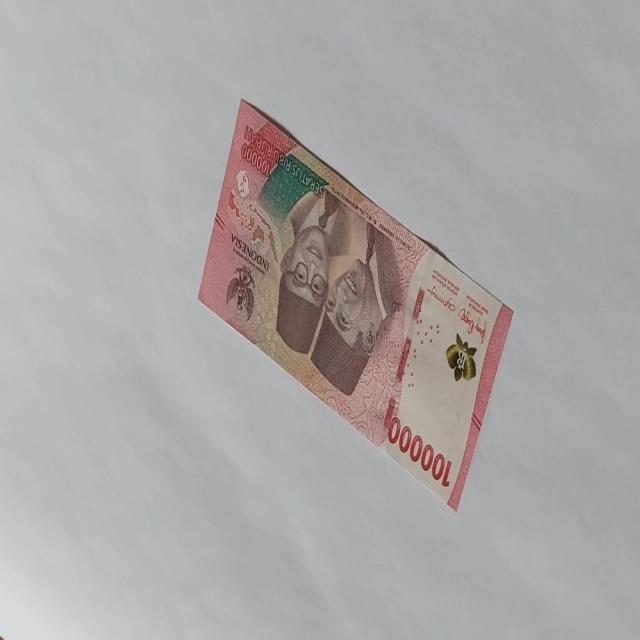seratus ribu rupiah: (197, 97, 514, 511)
